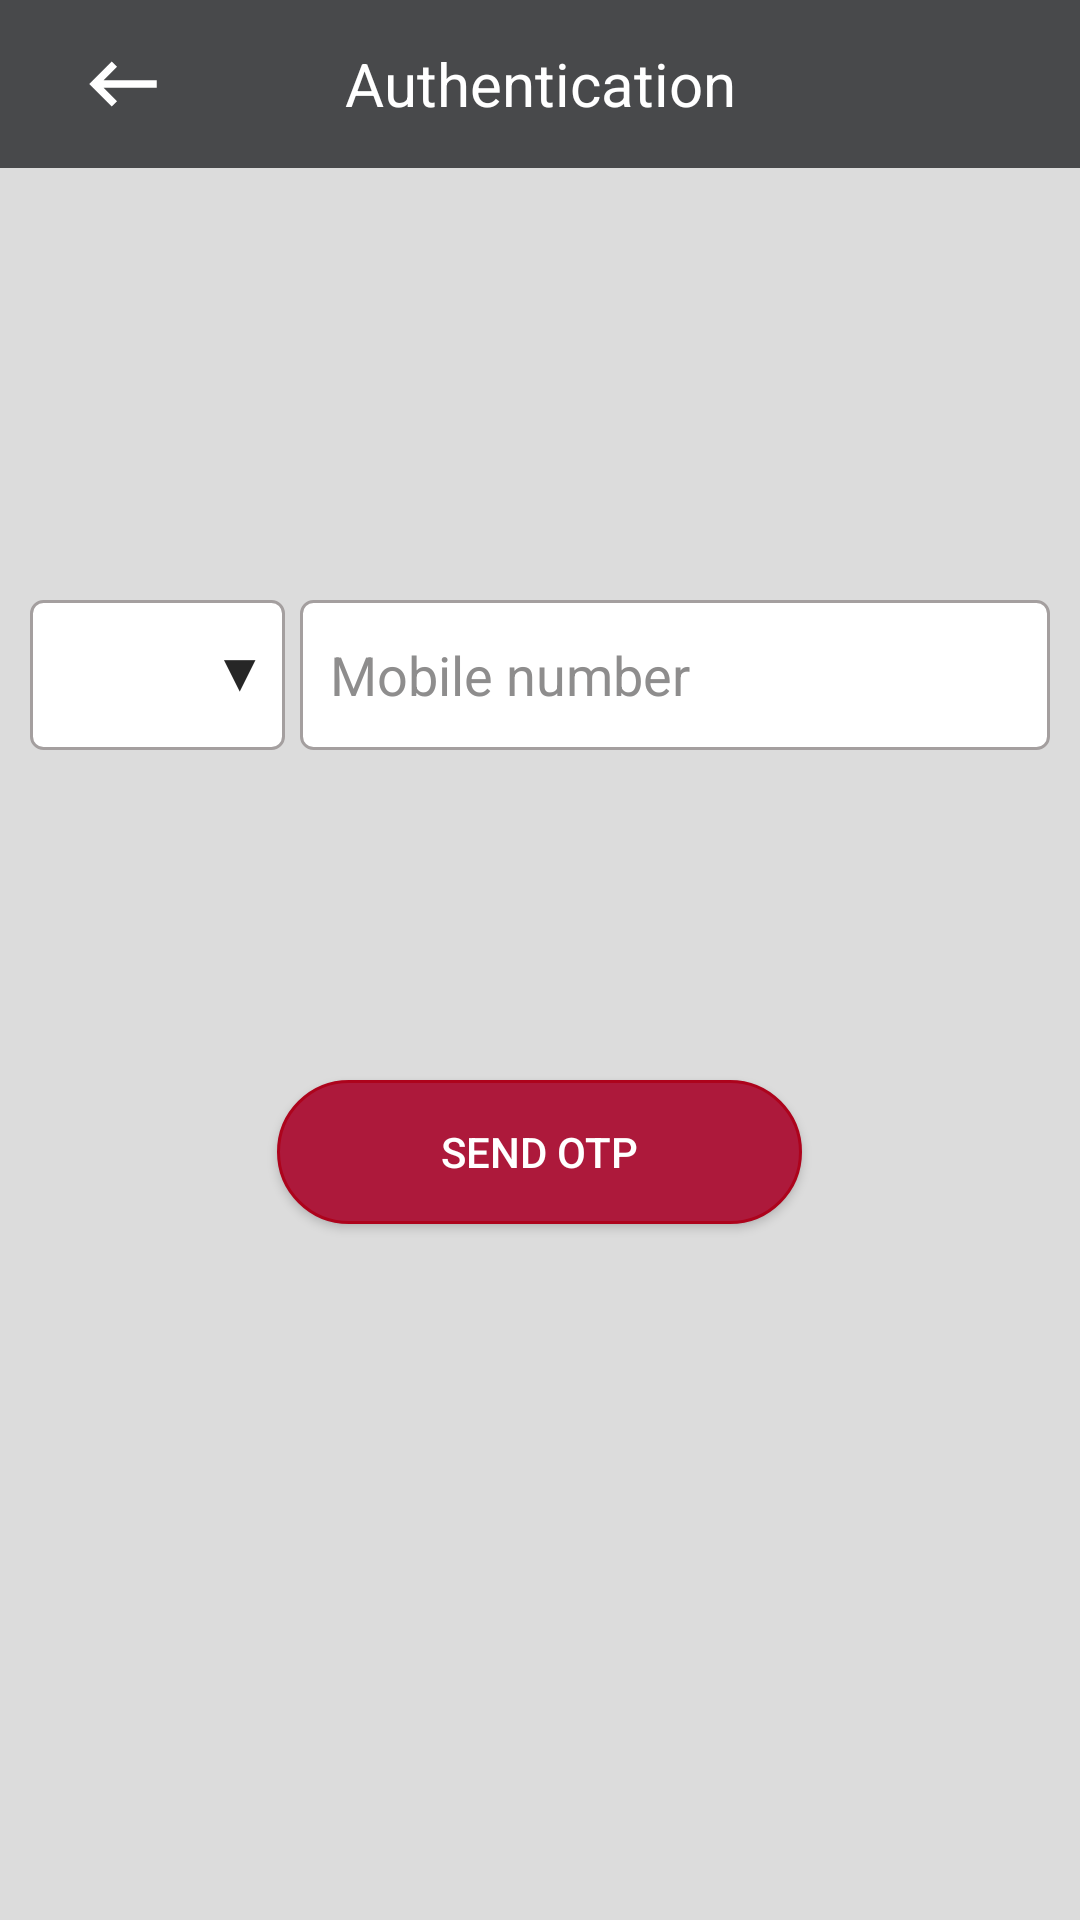

Locate icon controls on the screen. Image size 1080×1920, boxes as region(x1, y1, x2, y2).
back: region(89, 61, 157, 107)
